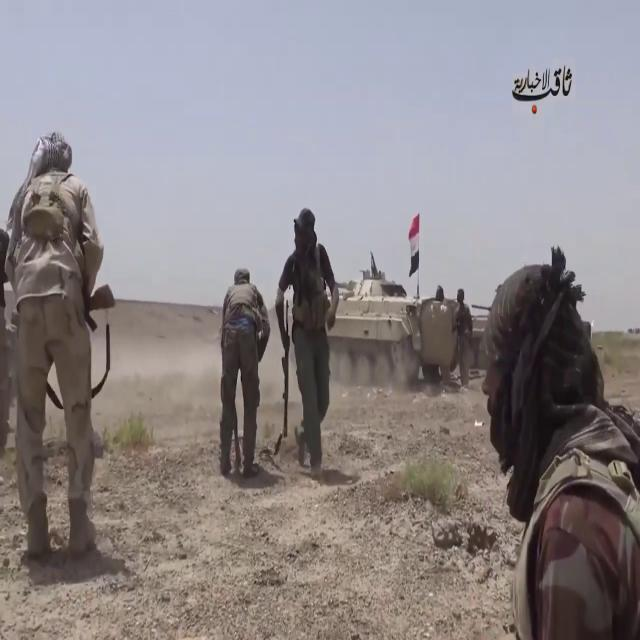long weapon: (275, 292, 296, 454)
